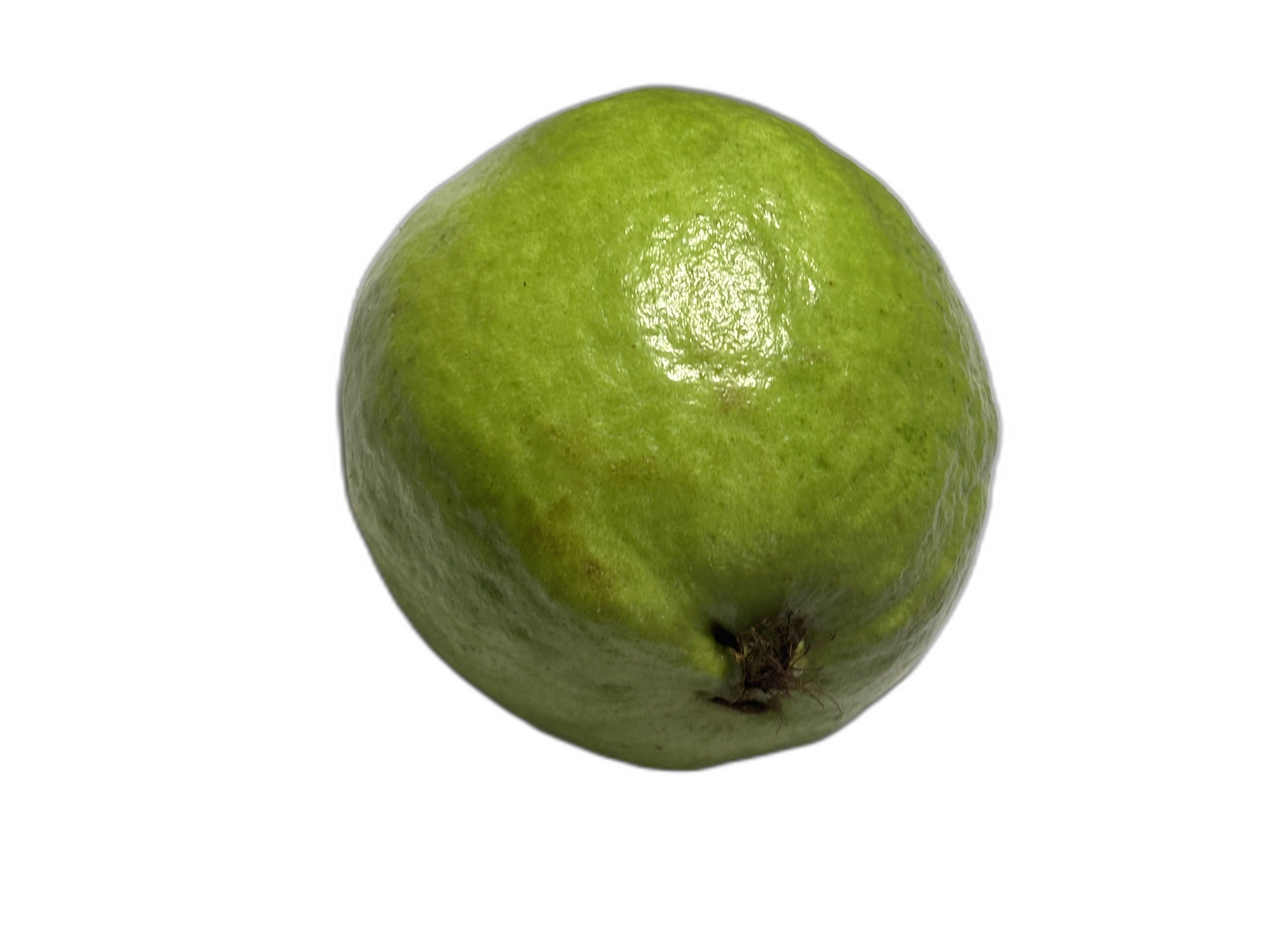guava: (61, 184, 1022, 809)
